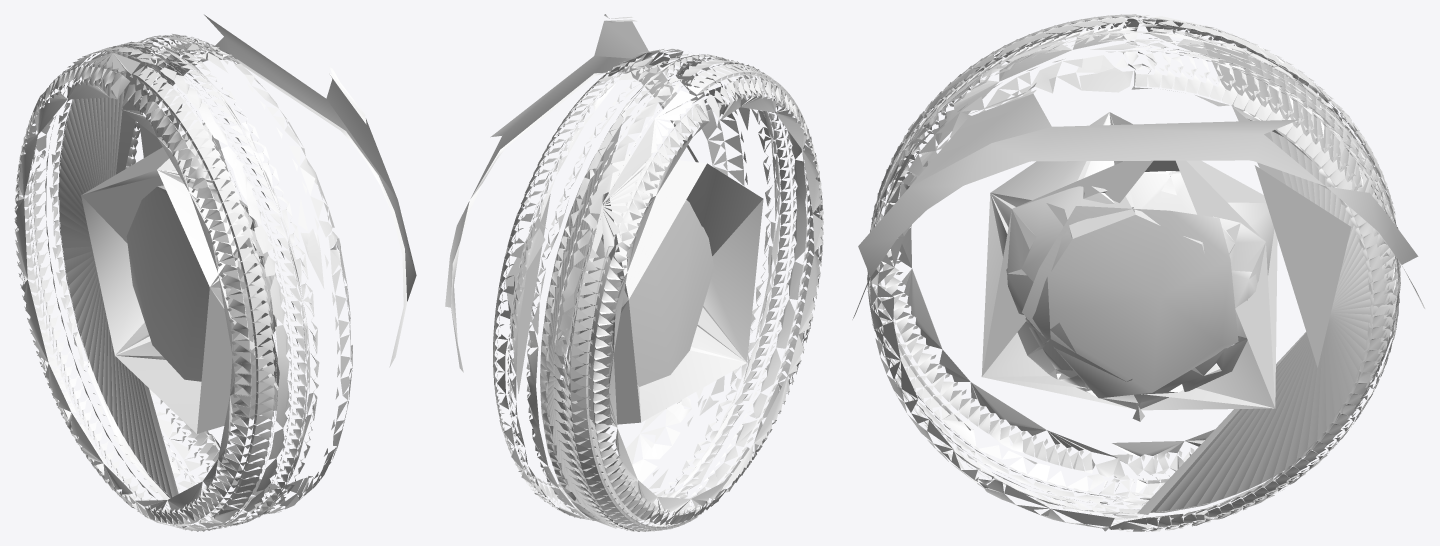
3 renders of one model, left to right at view 1: azimuth 30°, elevation 25°; view 2: azimuth 150°, elevation 25°; view 3: azimuth 270°, elevation 25°, orthographic. The views are drawn at different scales.
Size of the model in its own units: 0.2507 by 0.6046 by 0.6477.
1 material, 1 textured.
